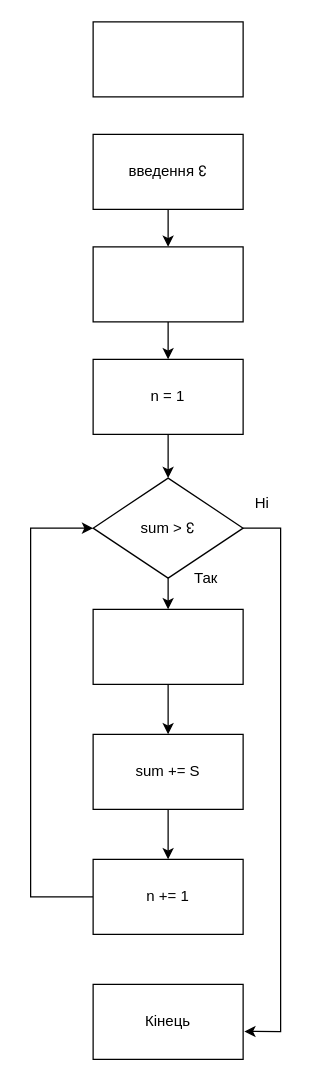
Image size: 313x1081. Some labels were removed from this diagram. The centre of each missing label's shape, as x and y in pixels:
"S = 2/(2n + 1)(2n + 3)" goes at (167,646).
"sum = 0" goes at (167,284).
"Початок" goes at (167,59).
